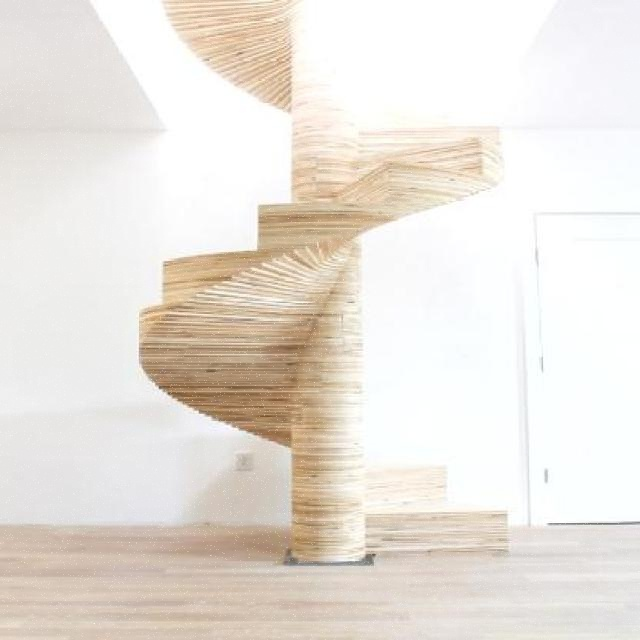stair: (142, 0, 558, 549)
